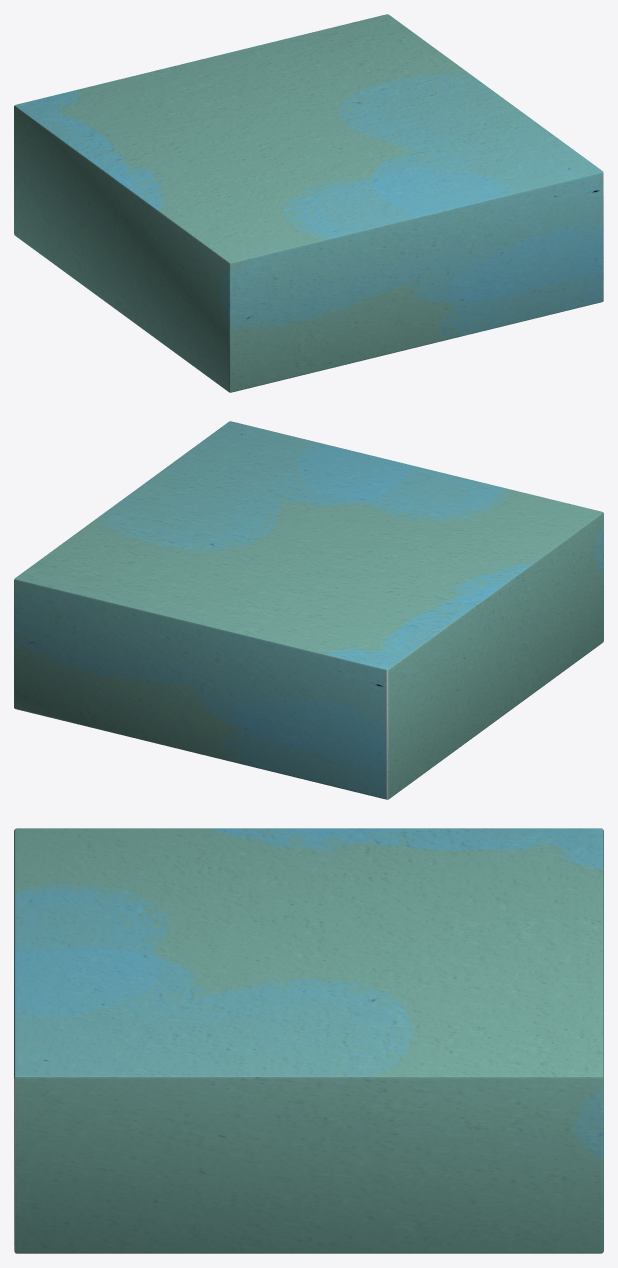
Rendered from TOMB_GROUND_3.obj.
The picture shows the model from 3 angles, top to bottom: view 1: azimuth 30°, elevation 25°; view 2: azimuth 150°, elevation 25°; view 3: azimuth 270°, elevation 25°; orthographic projection. The views are drawn at different scales.
Visible parts, largest first — view 1: TOMB_GROUND_3.002; view 2: TOMB_GROUND_3.002; view 3: TOMB_GROUND_3.002.
Boxes of the visible parts, left/top/right/bottom form: TOMB_GROUND_3.002: left=14, top=14, right=603, bottom=392; TOMB_GROUND_3.002: left=14, top=421, right=603, bottom=799; TOMB_GROUND_3.002: left=14, top=828, right=603, bottom=1253.
Size of the model in its own units: 3 by 1 by 3.
1 material, 1 textured.
